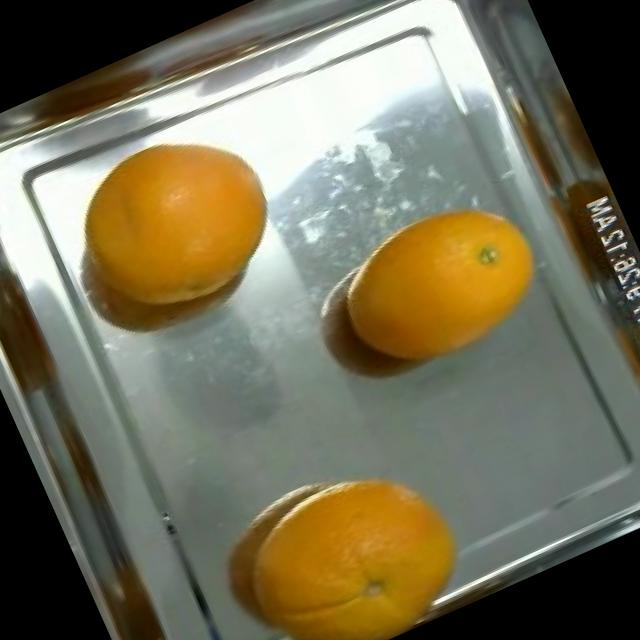Fruit: (331, 168, 574, 392)
